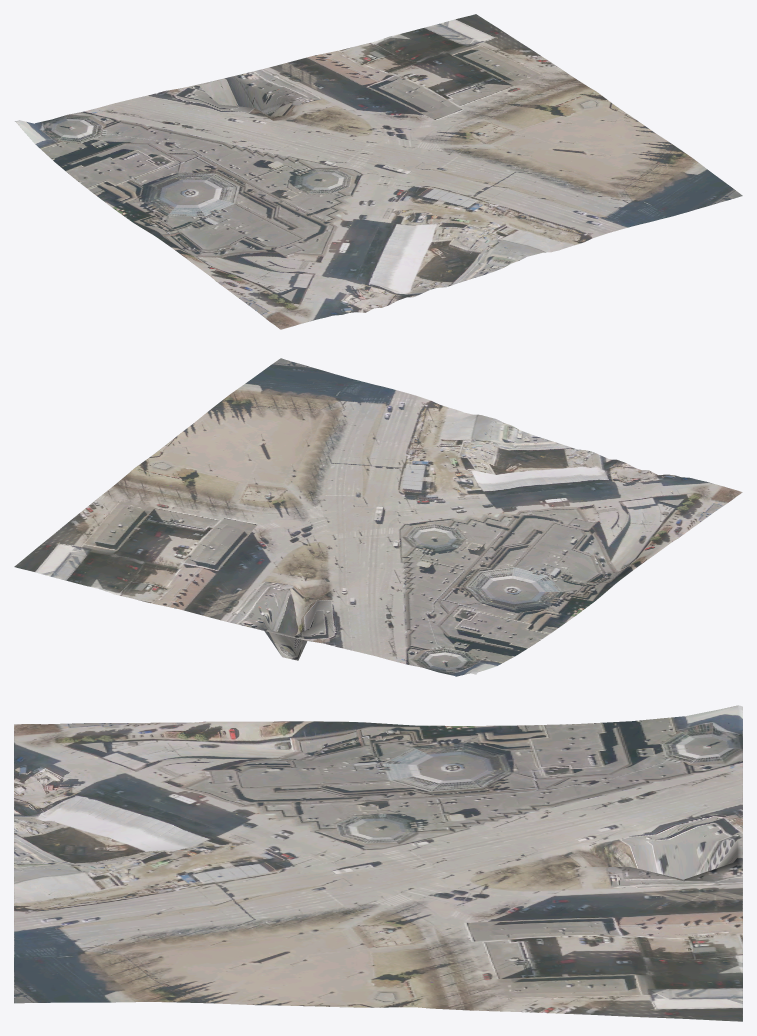
Rendered from CM_Terrain_24487592_6820613.fbx.
3 views of the same model, one above another, from view 1: azimuth 30°, elevation 25°; view 2: azimuth 150°, elevation 25°; view 3: azimuth 270°, elevation 25° (orthographic). The views are drawn at different scales.
Parts seen in each view (by area): view 1: CM_Terrain_24487592_6820613_LOD0; view 2: CM_Terrain_24487592_6820613_LOD0; view 3: CM_Terrain_24487592_6820613_LOD0.
Part boxes in pixels (box(x1,y1,x2,y2)): CM_Terrain_24487592_6820613_LOD0: box(15, 14, 742, 329); CM_Terrain_24487592_6820613_LOD0: box(14, 358, 742, 676); CM_Terrain_24487592_6820613_LOD0: box(14, 705, 742, 1021).
Size of what is drawn, in the model's own units: 205 by 25.59 by 205.
